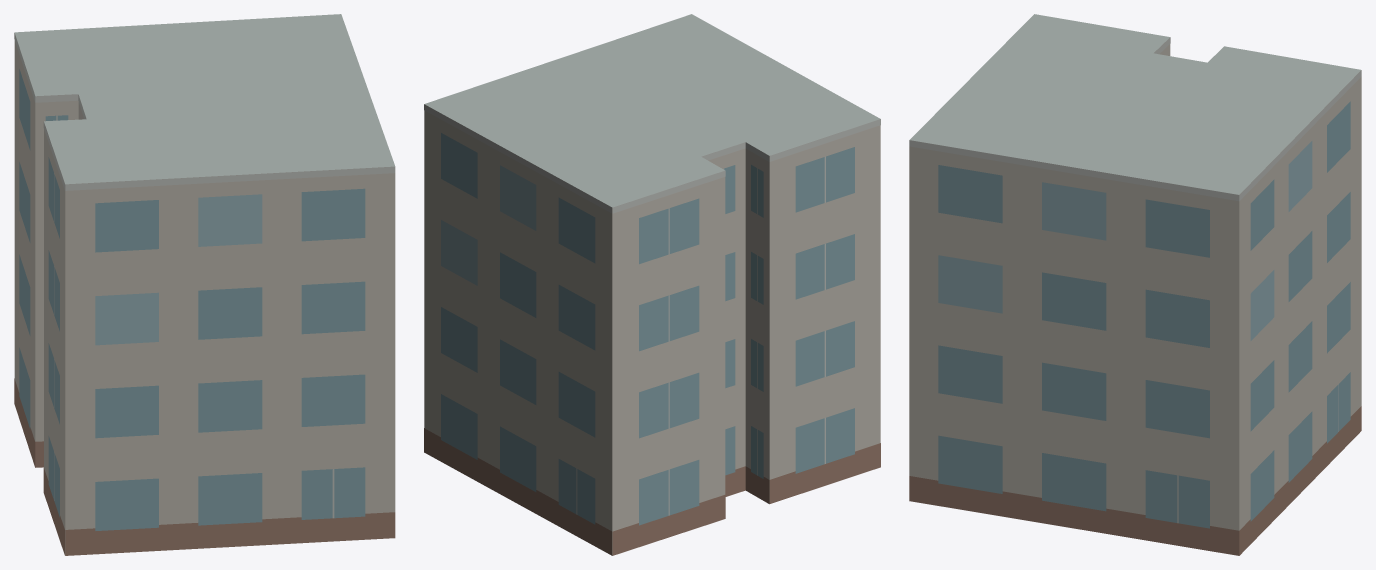
File: survey-upis-33022217.glb
The picture shows the model from 3 angles, left to right: view 1: azimuth 30°, elevation 25°; view 2: azimuth 150°, elevation 25°; view 3: azimuth 270°, elevation 25°; orthographic projection. The views are drawn at different scales.
Visible parts, largest first — view 1: survey-upis-33022217.tmp; view 2: survey-upis-33022217.tmp; view 3: survey-upis-33022217.tmp.
Boxes of the visible parts, box(x1,y1,x2,y2) form: survey-upis-33022217.tmp: box(14, 14, 395, 555); survey-upis-33022217.tmp: box(424, 14, 880, 555); survey-upis-33022217.tmp: box(909, 14, 1361, 555).
Bounding box in the file's own units: 14.79 × 13.75 × 15.62.
